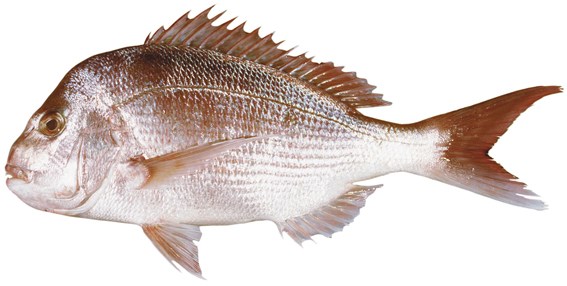fish: (5, 5, 564, 282)
